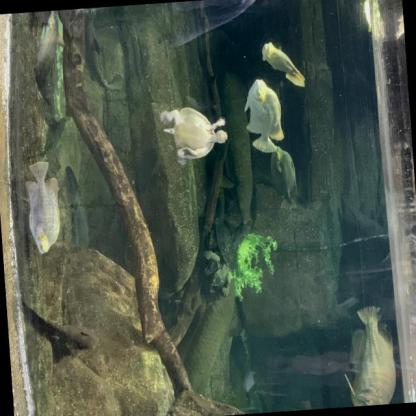fish: (338, 302, 400, 407), (31, 10, 71, 115), (23, 158, 63, 256), (79, 8, 125, 92), (242, 78, 286, 155), (260, 37, 307, 91), (267, 144, 299, 212)
